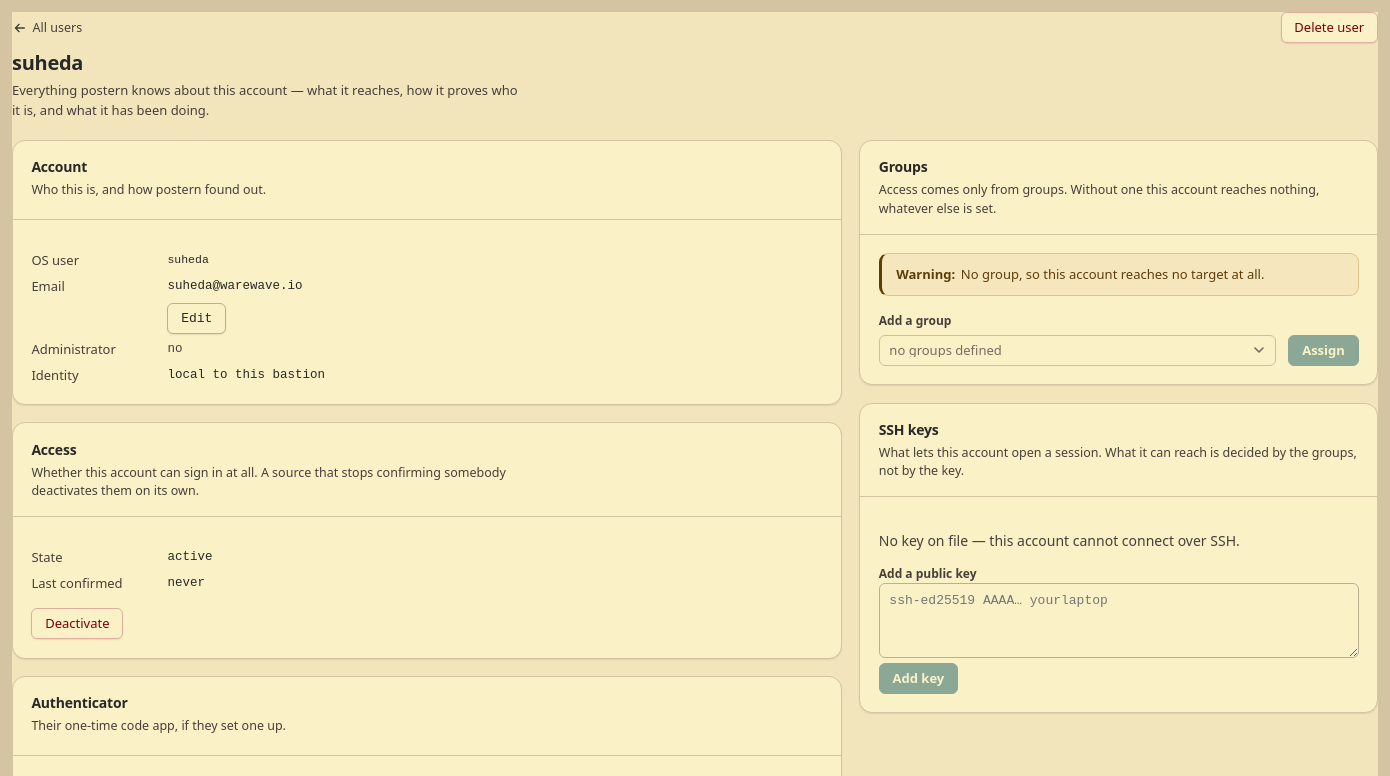
Test case: roller ve anahtarlar › sunucu anahtarı reddederse metin kutuda kalıyor
The image size is (1390, 776).
Type "bozuk-anahtar" into the text box labelled "Add a public key".
click(1119, 620); type("bozuk-anahtar")  # box [879,583,1359,658]
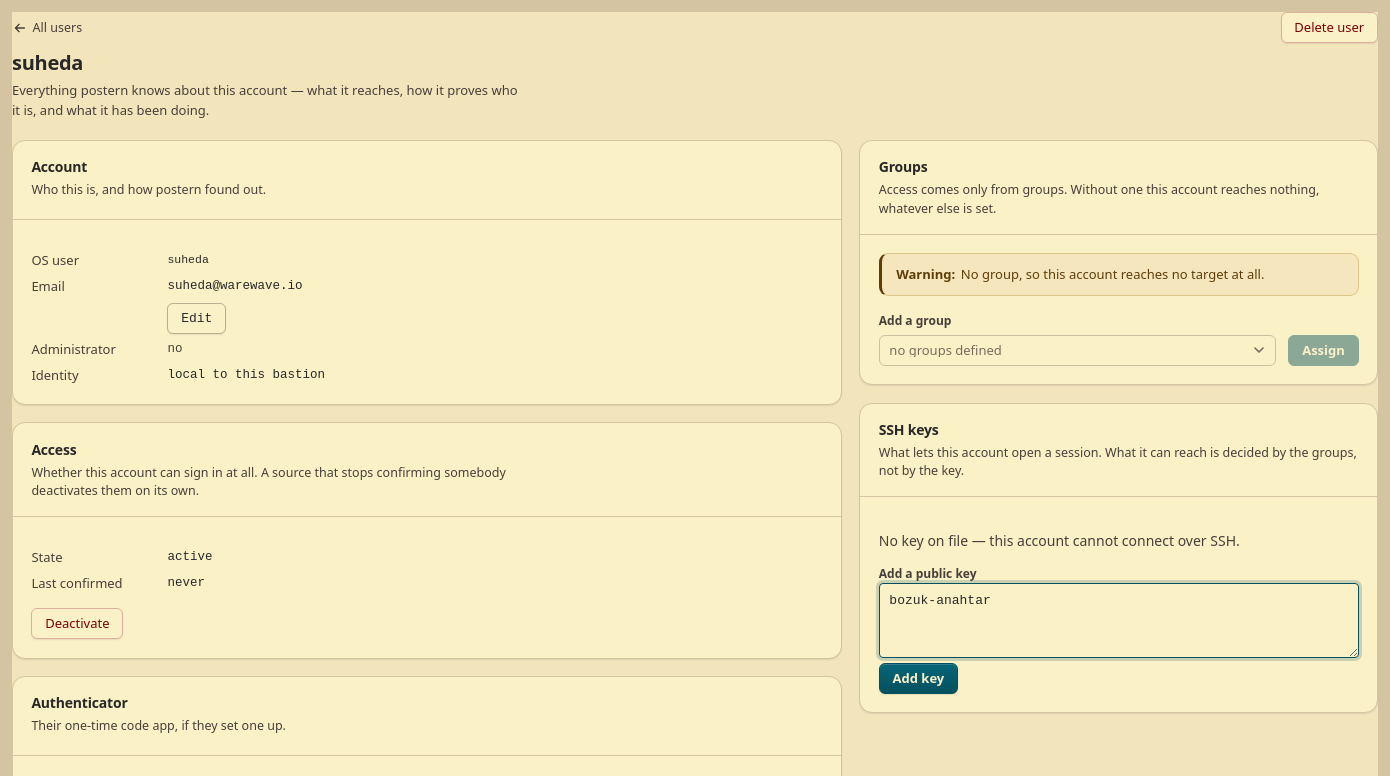
Click the button with aria-label "add this key".
click(918, 678)  # box [879,663,958,694]
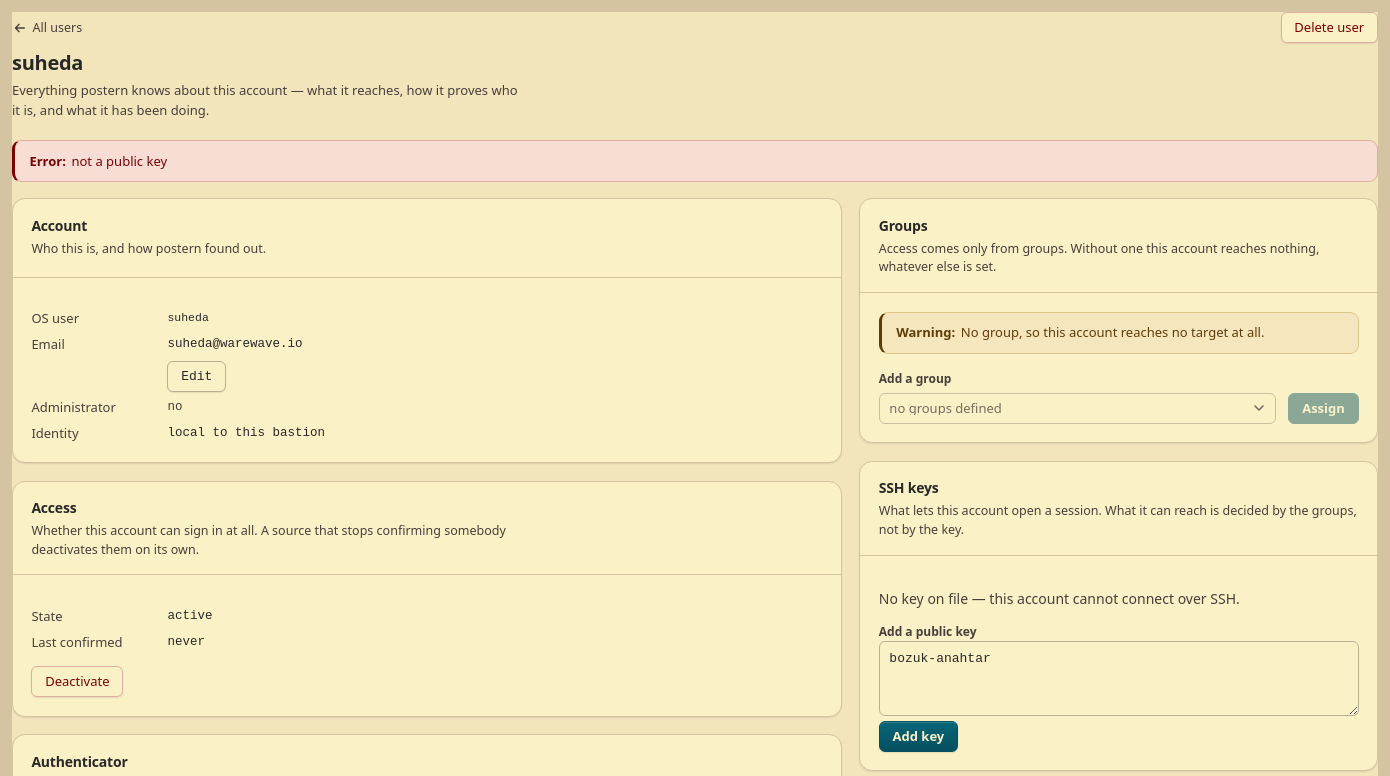
Now the text "not a public key" is shown, box [12,140,1378,182]
